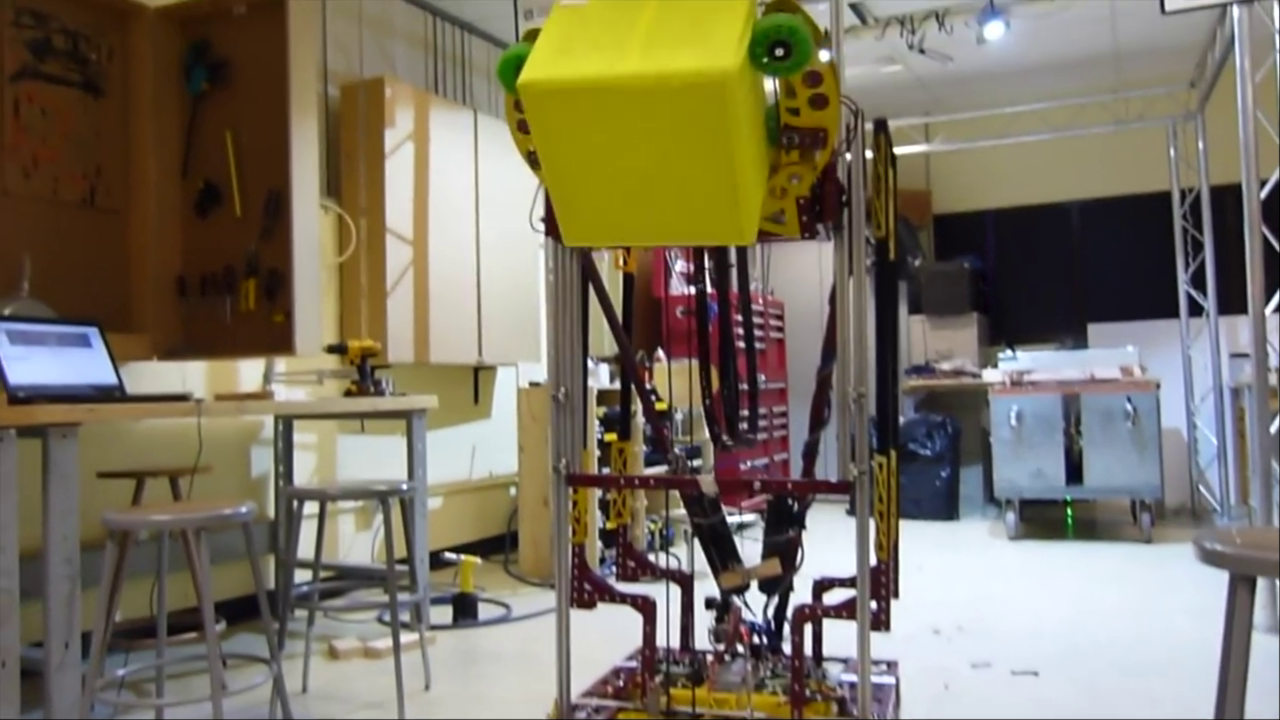cube: (515, 1, 774, 248)
